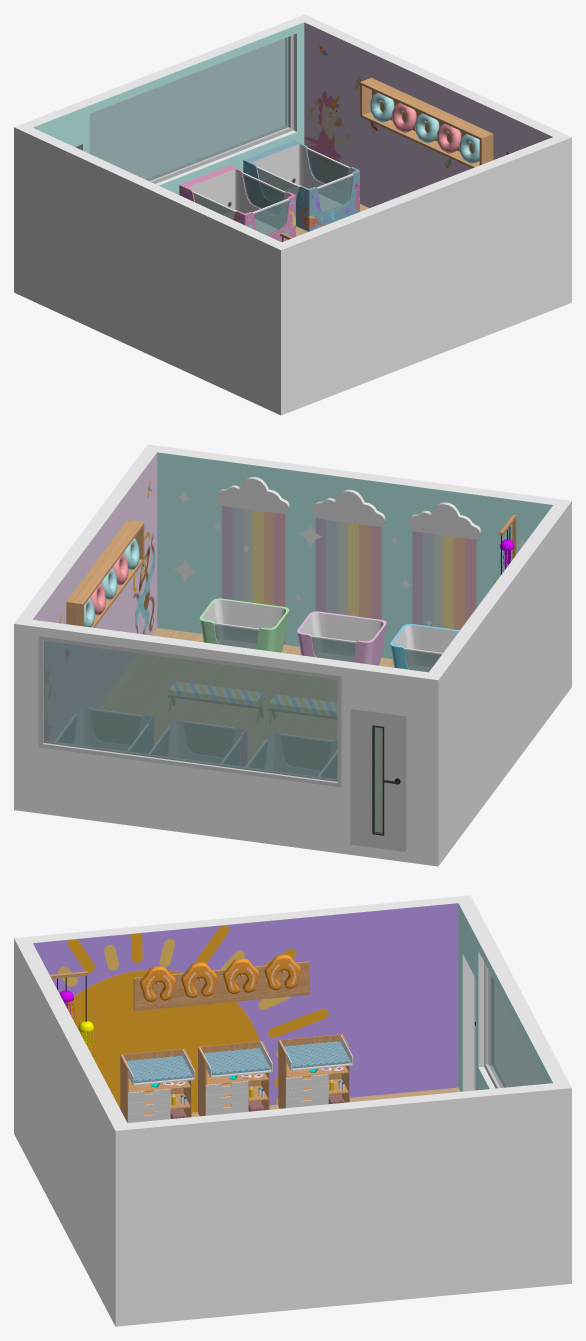
File: babySwim_Unit.fbx
The picture shows the model from 3 angles, top to bottom: view 1: azimuth 30°, elevation 25°; view 2: azimuth 150°, elevation 25°; view 3: azimuth 270°, elevation 25°; orthographic projection. The views are drawn at different scales.
Parts seen in each view (by area): view 1: BS_Wall_02, BS_Wall_01, BS_Wall_03, BS_Window, BS_Wall_04, BS_Bathtub_01, BS_LifeSavers_02, BS_Bathtub_02; view 2: BS_Wall_02, BS_Wall_04, BS_Window, BS_Wall_01, BS_Wall_03, BS_Floor, BS_Door, BS_LifeSavers_02, BS_BathtubSmall_05, BS_BathtubSmall_06, BS_Bathtub_02, BS_Bathtub_01 (+9 smaller); view 3: BS_Wall_03, BS_Wall_01, BS_Wall_02, BS_Wall_04, BS_ChangingTable_01, BS_ChangingTable_02, BS_ChangingTable_3, BS_Window, BS_WallMount, BS_Lifesaver_01, BS_Lifesaver_03, BS_Lifesaver_02 (+3 smaller).
Part boxes in pixels (bbox=[...]): BS_Wall_02: bbox=[281, 137, 571, 415]; BS_Wall_01: bbox=[14, 127, 281, 415]; BS_Wall_03: bbox=[304, 14, 570, 207]; BS_Window: bbox=[89, 34, 293, 183]; BS_Wall_04: bbox=[14, 14, 304, 194]; BS_Bathtub_01: bbox=[243, 140, 359, 231]; BS_LifeSavers_02: bbox=[360, 77, 493, 168]; BS_Bathtub_02: bbox=[179, 165, 295, 242]; BS_Wall_02: bbox=[148, 444, 571, 659]; BS_Wall_04: bbox=[14, 619, 438, 866]; BS_Window: bbox=[38, 636, 341, 787]; BS_Wall_01: bbox=[429, 501, 571, 865]; BS_Wall_03: bbox=[14, 444, 157, 741]; BS_Floor: bbox=[97, 628, 406, 851]; BS_Door: bbox=[354, 714, 401, 851]; BS_LifeSavers_02: bbox=[66, 520, 144, 627]; BS_BathtubSmall_05: bbox=[297, 611, 386, 665]; BS_BathtubSmall_06: bbox=[199, 598, 289, 652]; BS_Bathtub_02: bbox=[148, 718, 246, 766]; BS_Bathtub_01: bbox=[55, 706, 153, 753]; BS_Wall_03: bbox=[115, 1083, 571, 1326]; BS_Wall_01: bbox=[14, 895, 469, 1112]; BS_Wall_02: bbox=[14, 938, 127, 1326]; BS_Wall_04: bbox=[458, 895, 571, 1091]; BS_ChangingTable_01: bbox=[198, 1041, 272, 1116]; BS_ChangingTable_02: bbox=[278, 1034, 353, 1108]; BS_ChangingTable_3: bbox=[120, 1048, 195, 1122]; BS_Window: bbox=[484, 962, 547, 1088]; BS_WallMount: bbox=[133, 961, 309, 1010]; BS_Lifesaver_01: bbox=[264, 954, 300, 990]; BS_Lifesaver_03: bbox=[181, 962, 217, 997]; BS_Lifesaver_02: bbox=[223, 958, 258, 993].
Size of the model in its own units: 1130 by 437 by 1130.
